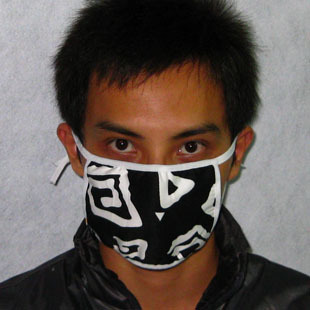face_mask: (80, 62, 231, 265)
